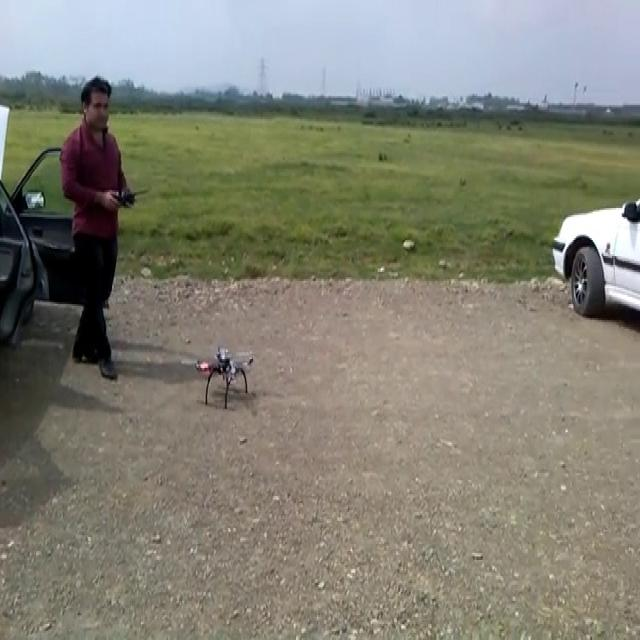drone: (181, 340, 258, 407)
